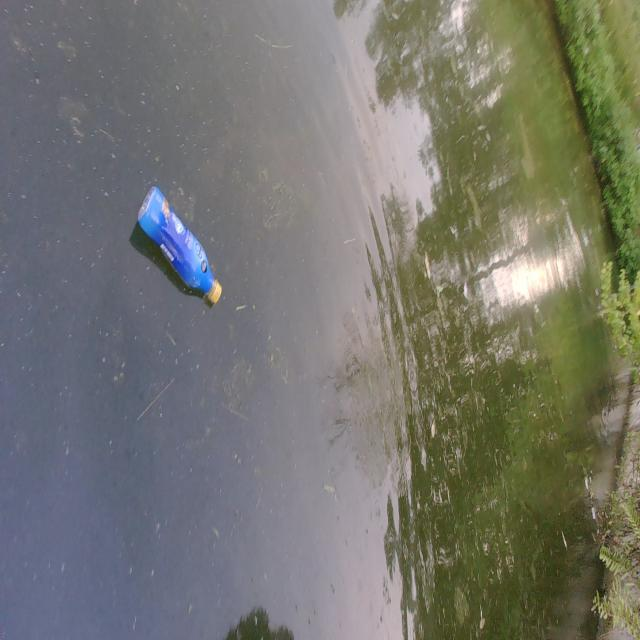Bottle: (135, 177, 223, 312)
